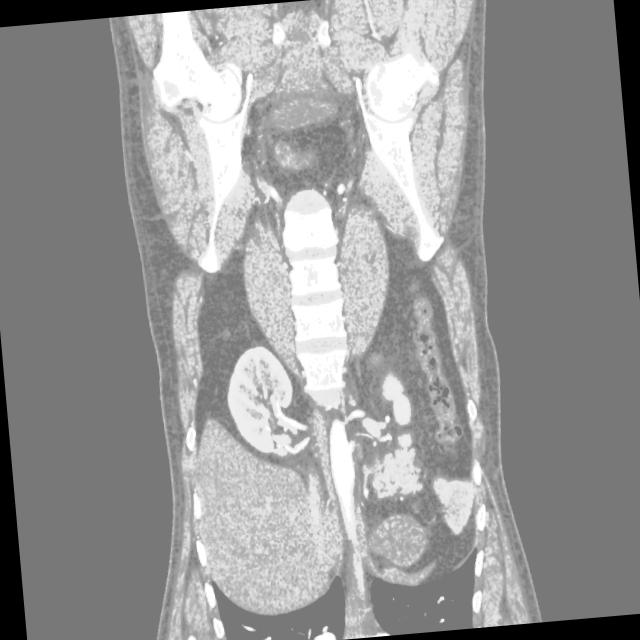NORMAL: (53, 14, 603, 640)
